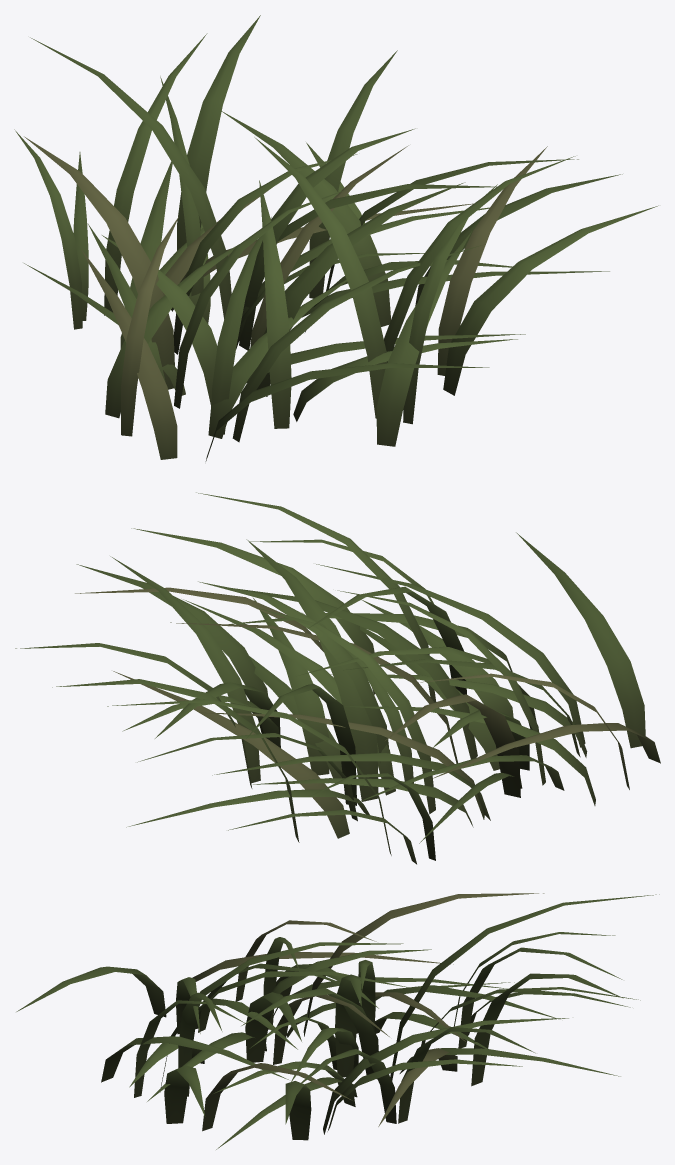
The model's file is grass-edge.glb.
3 renders of one model, top to bottom at view 1: azimuth 30°, elevation 25°; view 2: azimuth 150°, elevation 25°; view 3: azimuth 270°, elevation 25°, orthographic. The views are drawn at different scales.
Parts seen in each view (by area): view 1: RF02 edge rooted clump; view 2: RF02 edge rooted clump; view 3: RF02 edge rooted clump.
Part boxes in pixels (x1,y1,x2,y2): RF02 edge rooted clump: [14, 15, 658, 461]; RF02 edge rooted clump: [15, 492, 660, 864]; RF02 edge rooted clump: [16, 893, 659, 1149].
Bounding box in the file's own units: 0.73 × 0.2508 × 0.8802.
